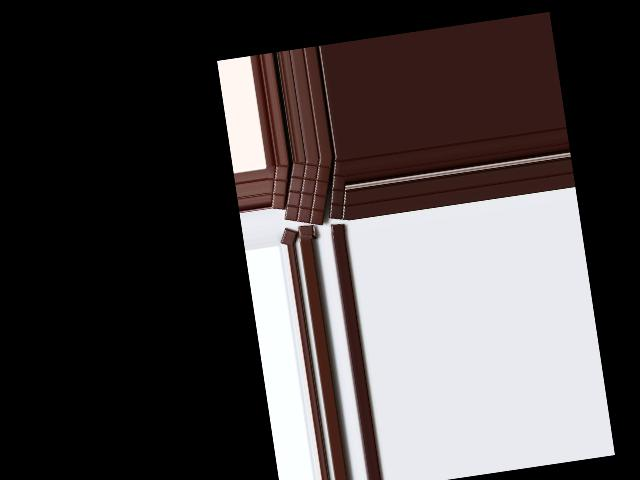chocolate: (275, 156, 339, 229)
